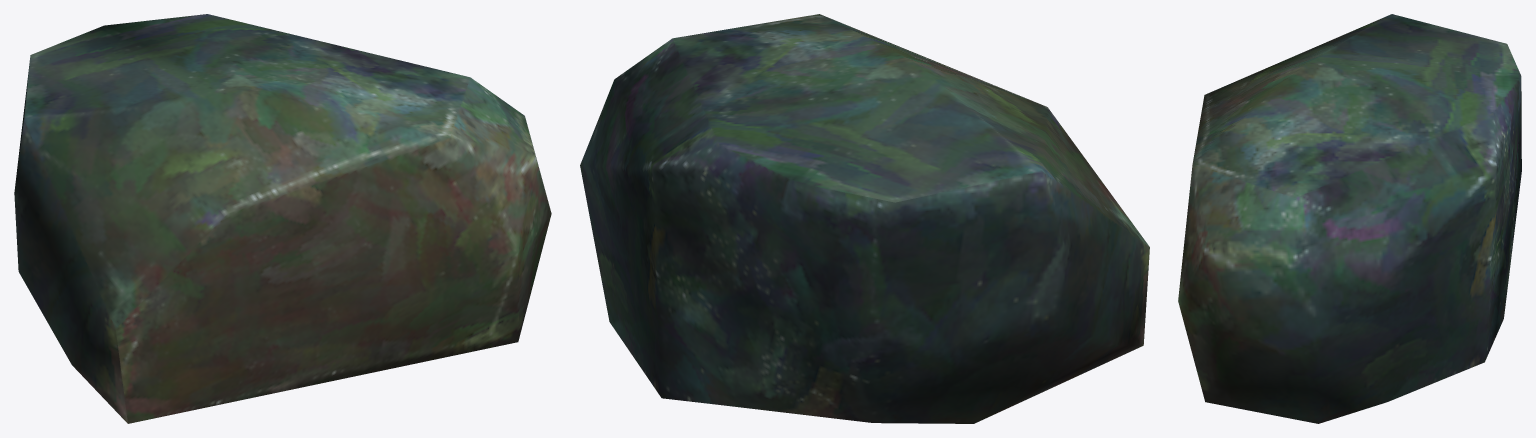
Rendered from tinyrock3.fbx.
The picture shows the model from 3 angles, left to right: view 1: azimuth 30°, elevation 25°; view 2: azimuth 150°, elevation 25°; view 3: azimuth 270°, elevation 25°; orthographic projection. The views are drawn at different scales.
Visible parts, largest first — view 1: tinyrocks_2; view 2: tinyrocks_2; view 3: tinyrocks_2.
Part boxes in pixels (x1,y1,x2,y2): tinyrocks_2: (14, 14, 551, 423); tinyrocks_2: (580, 14, 1149, 423); tinyrocks_2: (1178, 14, 1521, 423).
Size of the model in its own units: 109 by 57.77 by 75.3.
